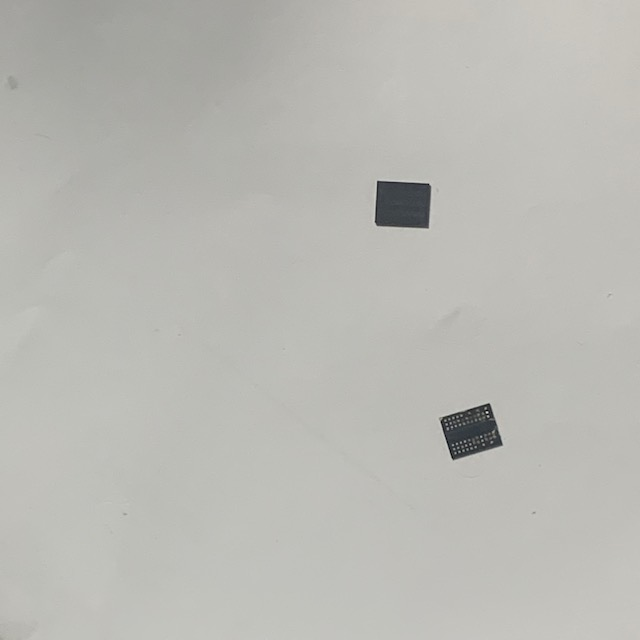IC: (437, 401, 506, 462), (371, 178, 435, 233)
